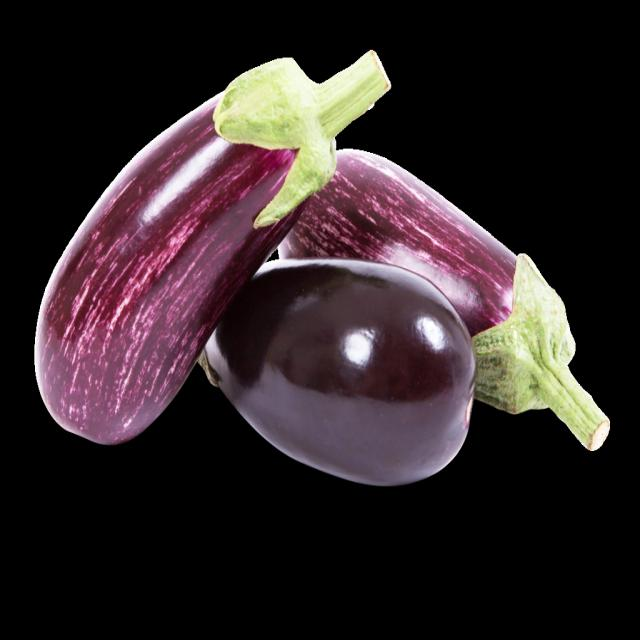eggplant: (31, 116, 228, 451), (244, 259, 469, 484)
